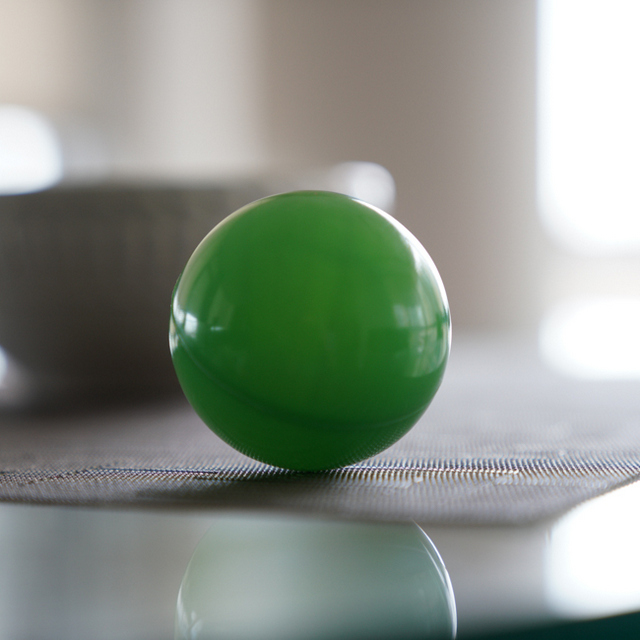Ball: (171, 188, 452, 477)
